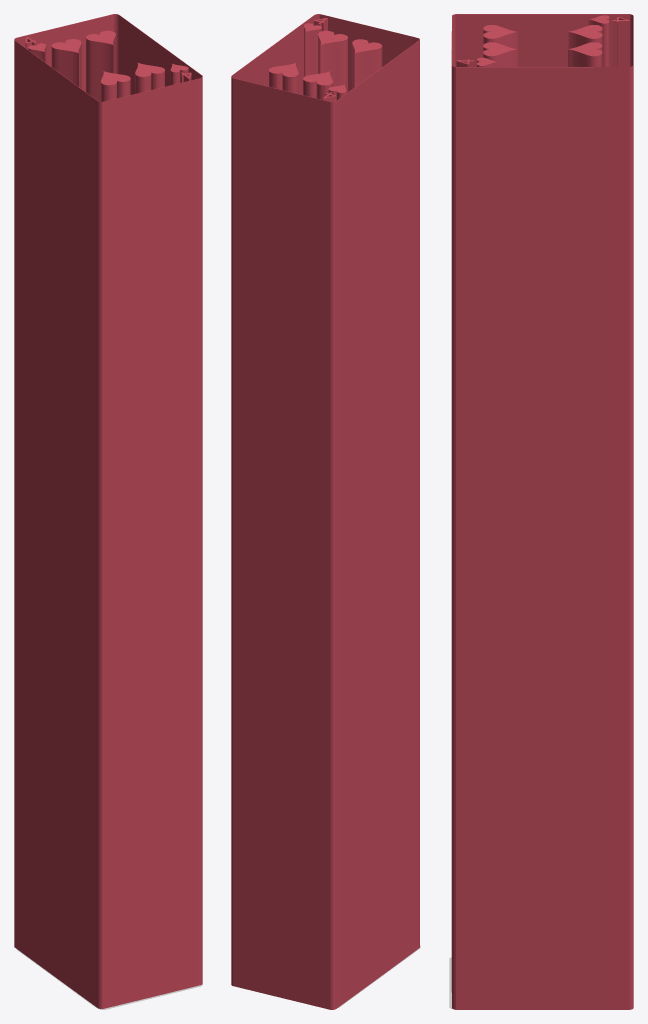
Rendered from 4_hearts.glb.
3 renders of one model, left to right at view 1: azimuth 30°, elevation 25°; view 2: azimuth 150°, elevation 25°; view 3: azimuth 270°, elevation 25°, orthographic. The views are drawn at different scales.
Parts seen in each view (by area): view 1: Mesh_Mesh_head_geo.001_lambert2SG.001; view 2: Mesh_Mesh_head_geo.001_lambert2SG.001; view 3: Mesh_Mesh_head_geo.001_lambert2SG.001.
Part boxes in pixels (left/top/right/bottom): Mesh_Mesh_head_geo.001_lambert2SG.001: left=14, top=14, right=202, bottom=1009; Mesh_Mesh_head_geo.001_lambert2SG.001: left=231, top=14, right=420, bottom=1009; Mesh_Mesh_head_geo.001_lambert2SG.001: left=449, top=14, right=633, bottom=1009.
Bounding box in the file's own units: 1.22 × 10 × 1.78.
